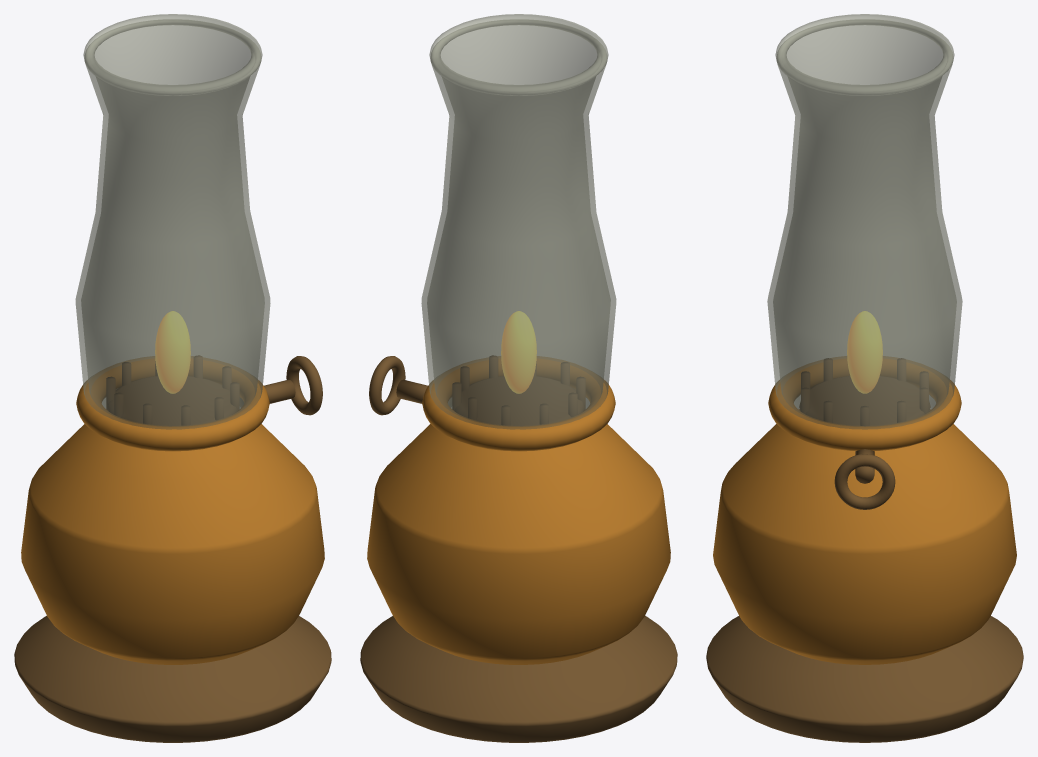
File: period-table-oil-lamp.glb
3 renders of one model, left to right at view 1: azimuth 30°, elevation 25°; view 2: azimuth 150°, elevation 25°; view 3: azimuth 270°, elevation 25°, orthographic.
Parts seen in each view (by area): view 1: TableLampGlassChimney, TableLampReservoir, TableLampFoot, TableLampBurnerGallery, TableLampChimneyLip, TableLampBurnerPlate, PeriodLampFlame_Table, TableLampThumbWheel, TableLampThumbWheelStem; view 2: TableLampGlassChimney, TableLampReservoir, TableLampFoot, TableLampBurnerGallery, TableLampChimneyLip, TableLampBurnerPlate, PeriodLampFlame_Table, TableLampThumbWheel, TableLampThumbWheelStem; view 3: TableLampGlassChimney, TableLampReservoir, TableLampFoot, TableLampBurnerGallery, TableLampChimneyLip, TableLampBurnerPlate, PeriodLampFlame_Table, TableLampThumbWheel.
Part boxes in pixels (left/top/right/bottom): TableLampGlassChimney: left=75, top=19, right=270, bottom=429; TableLampReservoir: left=21, top=424, right=324, bottom=664; TableLampFoot: left=14, top=616, right=331, bottom=742; TableLampBurnerGallery: left=76, top=356, right=269, bottom=451; TableLampChimneyLip: left=83, top=14, right=262, bottom=95; TableLampBurnerPlate: left=108, top=376, right=237, bottom=425; PeriodLampFlame_Table: left=155, top=311, right=190, bottom=393; TableLampThumbWheel: left=286, top=356, right=322, bottom=415; TableLampThumbWheelStem: left=264, top=379, right=295, bottom=403; TableLampGlassChimney: left=421, top=19, right=616, bottom=429; TableLampReservoir: left=367, top=424, right=670, bottom=664; TableLampFoot: left=360, top=616, right=677, bottom=742; TableLampBurnerGallery: left=422, top=356, right=615, bottom=451; TableLampChimneyLip: left=429, top=14, right=608, bottom=95; TableLampBurnerPlate: left=454, top=376, right=583, bottom=425; PeriodLampFlame_Table: left=501, top=311, right=536, bottom=393; TableLampThumbWheel: left=369, top=356, right=405, bottom=415; TableLampThumbWheelStem: left=396, top=379, right=427, bottom=403; TableLampGlassChimney: left=767, top=19, right=962, bottom=429; TableLampReservoir: left=713, top=409, right=1016, bottom=664; TableLampFoot: left=706, top=616, right=1023, bottom=742; TableLampBurnerGallery: left=768, top=356, right=961, bottom=450; TableLampChimneyLip: left=775, top=14, right=954, bottom=95; TableLampBurnerPlate: left=799, top=376, right=930, bottom=425; PeriodLampFlame_Table: left=847, top=311, right=882, bottom=393; TableLampThumbWheel: left=834, top=454, right=895, bottom=509.
Size of the model in its own units: 0.3969 by 0.8967 by 0.3969.
